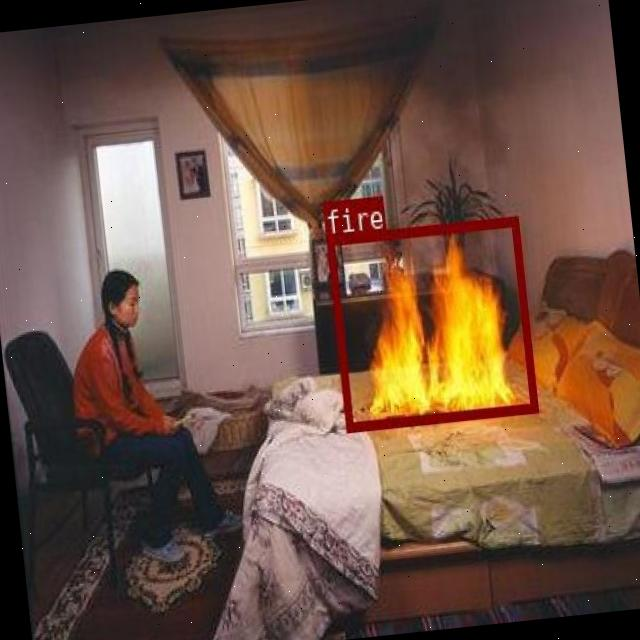fire: (325, 214, 536, 431)
